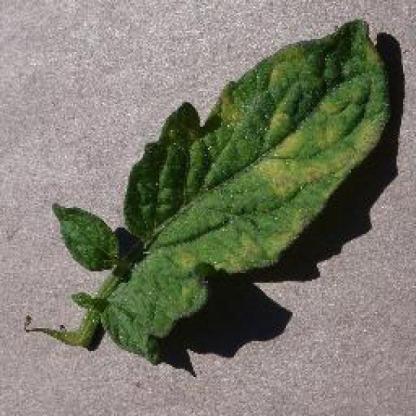Tomato_Leaf_Mold: (47, 18, 391, 367)
